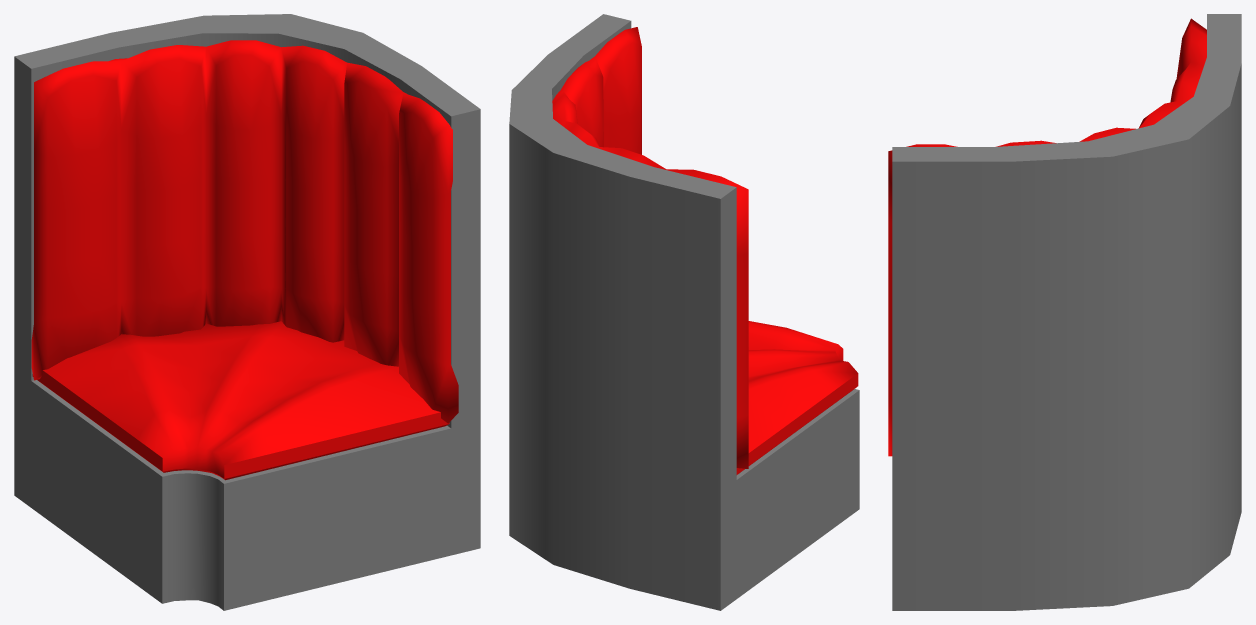
The model's file is SM_BoothCorner.FBX.
3 views of the same model, side by side, from view 1: azimuth 30°, elevation 25°; view 2: azimuth 150°, elevation 25°; view 3: azimuth 270°, elevation 25° (orthographic). The views are drawn at different scales.
Parts seen in each view (by area): view 1: CornerFrame_low; view 2: CornerFrame_low; view 3: CornerFrame_low.
Boxes of the visible parts, box(x1,y1,x2,y2) form: CornerFrame_low: box(14, 14, 480, 610); CornerFrame_low: box(509, 14, 859, 610); CornerFrame_low: box(888, 14, 1241, 610).
Bounding box in the file's own units: 102 × 142 × 101.
